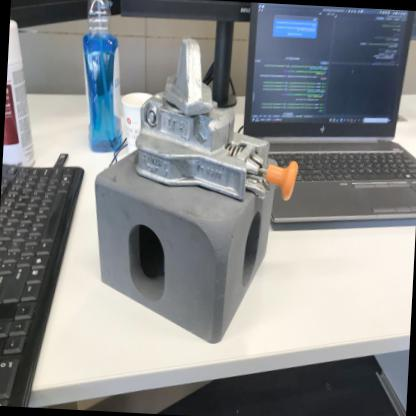CornerCasting: (81, 160, 287, 348)
Twistlock: (126, 30, 306, 202)
